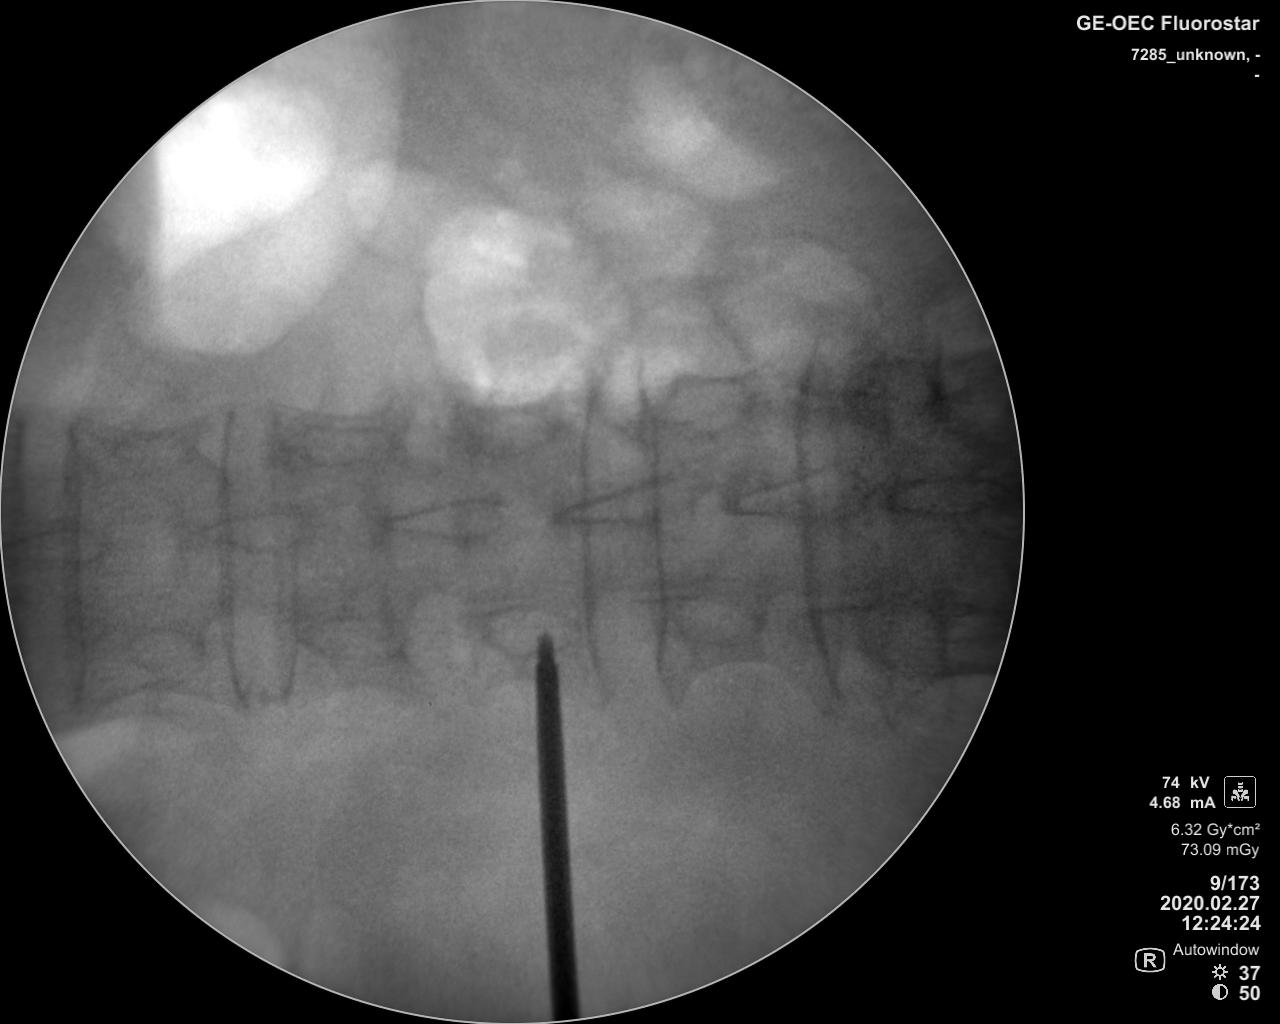eyes: (857, 594, 948, 682), (672, 586, 768, 656), (647, 370, 755, 432), (847, 358, 941, 423), (478, 598, 577, 657), (461, 400, 552, 465), (310, 614, 390, 674), (126, 623, 199, 682)
line: (785, 347, 848, 696), (571, 378, 610, 707), (265, 388, 304, 720), (634, 376, 673, 704), (52, 406, 91, 734), (217, 396, 253, 722)
nose: (551, 466, 714, 534), (719, 461, 872, 526), (375, 493, 507, 544), (205, 502, 318, 558), (883, 472, 1008, 521), (5, 519, 110, 572)
